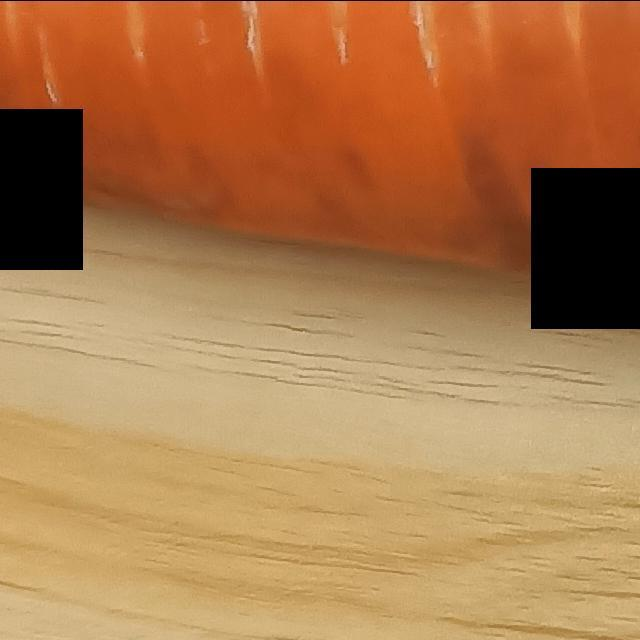carrot: (1, 1, 640, 331)
